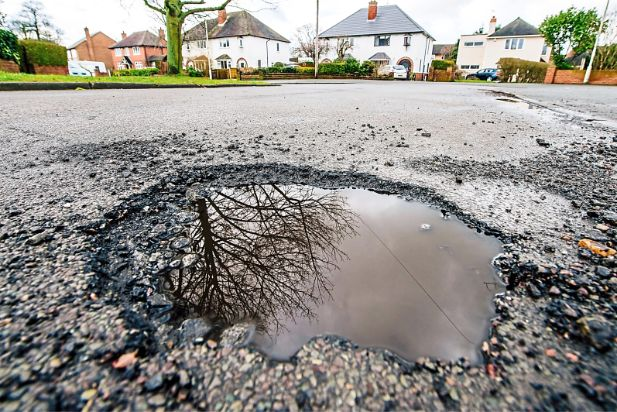pothole: (75, 157, 522, 384)
